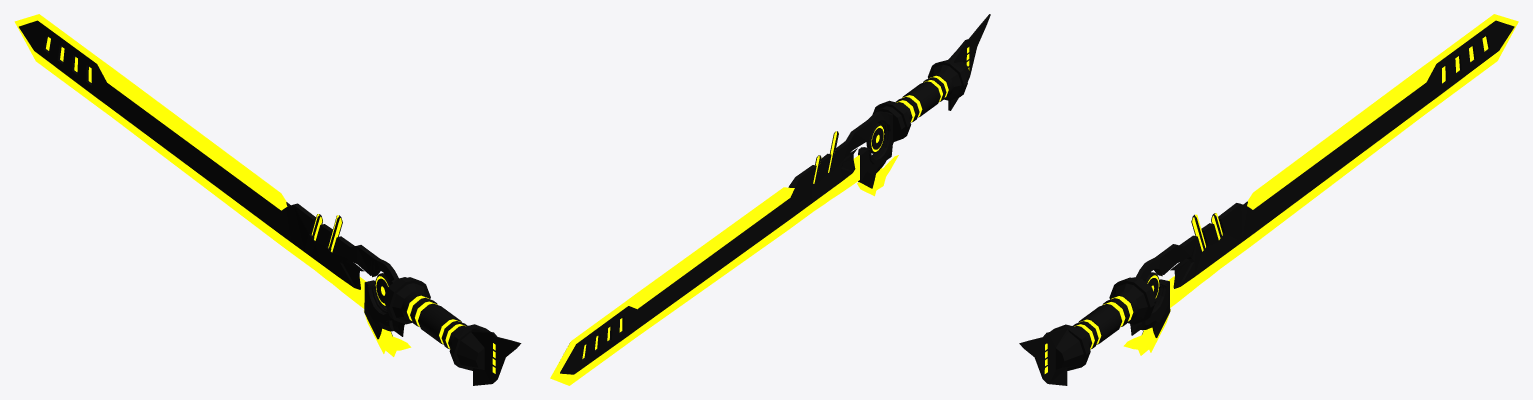
Rendered from SwordModel.fbx.
3 renders of one model, left to right at view 1: azimuth 30°, elevation 25°; view 2: azimuth 150°, elevation 25°; view 3: azimuth 330°, elevation 25°, orthographic. The views are drawn at different scales.
Visible parts, largest first — view 1: sward; view 2: sward; view 3: sward.
Boxes of the visible parts, bbox=[...] form: sward: bbox=[14, 14, 521, 385]; sward: bbox=[550, 14, 990, 385]; sward: bbox=[1019, 14, 1518, 385].
Size of the model in its own units: 58.49 by 146 by 1225.
